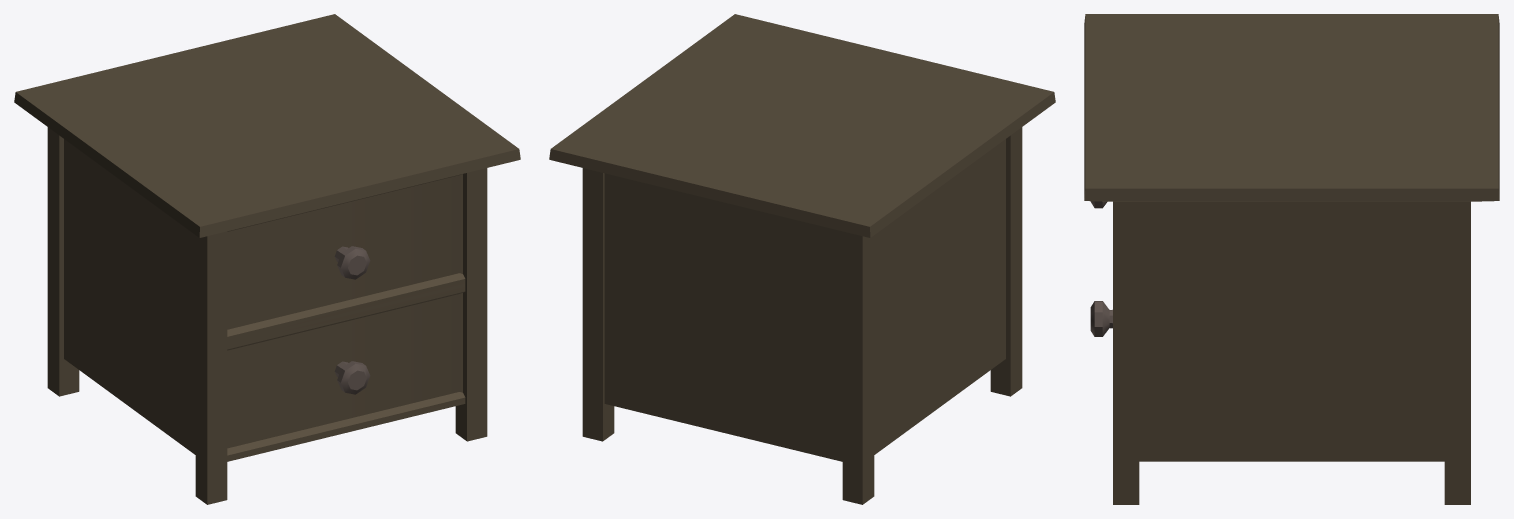
File: NightStand_3.glb
The picture shows the model from 3 angles, left to right: view 1: azimuth 30°, elevation 25°; view 2: azimuth 150°, elevation 25°; view 3: azimuth 270°, elevation 25°; orthographic projection. The views are drawn at different scales.
Parts seen in each view (by area): view 1: NightStand_3; view 2: NightStand_3; view 3: NightStand_3.
Boxes of the visible parts, left/top/right/bottom form: NightStand_3: left=14, top=14, right=520, bottom=504; NightStand_3: left=549, top=14, right=1055, bottom=504; NightStand_3: left=1084, top=14, right=1499, bottom=504.
Size of the model in its own units: 0.2857 by 0.2481 by 0.2857.
